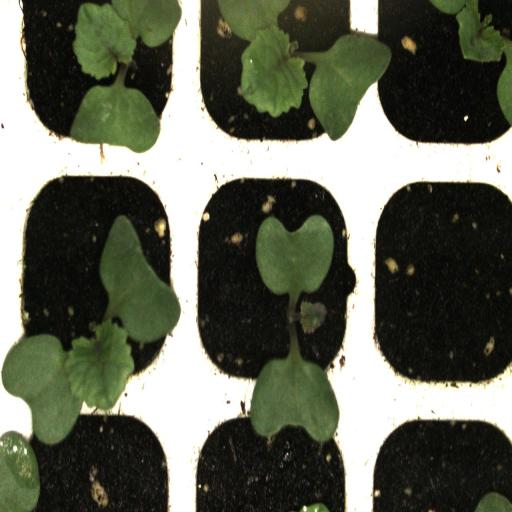noseedling: (362, 158, 512, 402)
seedling: (185, 160, 361, 400), (8, 162, 186, 395), (1, 0, 187, 162), (185, 0, 363, 158), (363, 0, 512, 160)
